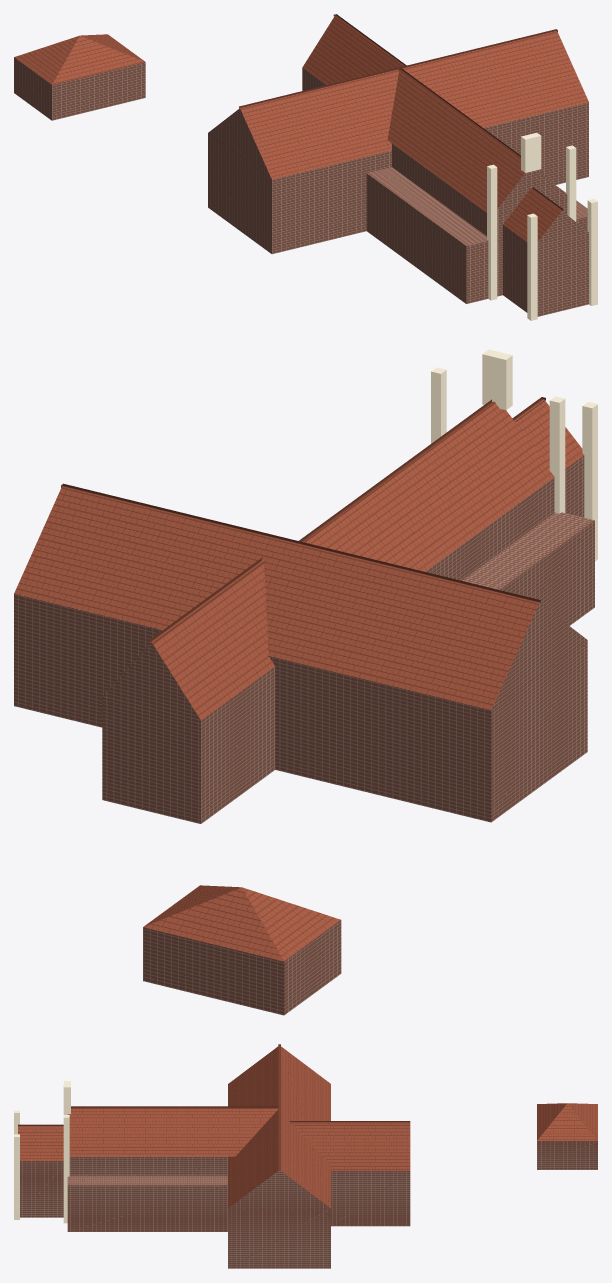
File: christ_church_far.glb
The picture shows the model from 3 angles, top to bottom: view 1: azimuth 30°, elevation 25°; view 2: azimuth 150°, elevation 25°; view 3: azimuth 270°, elevation 25°; orthographic projection. The views are drawn at different scales.
Parts seen in each view (by area): view 1: m_cc_brick_wall, m_cc_roof_tile, m_cc_dressing, m_cc_ridge; view 2: m_cc_brick_wall, m_cc_roof_tile, m_cc_dressing, m_cc_ridge; view 3: m_cc_brick_wall, m_cc_roof_tile, m_cc_dressing, m_cc_ridge.
Part boxes in pixels (left/top/right/bottom): m_cc_brick_wall: left=14, top=57, right=588, bottom=316; m_cc_roof_tile: left=14, top=15, right=588, bottom=241; m_cc_dressing: left=487, top=132, right=597, bottom=320; m_cc_ridge: left=239, top=14, right=563, bottom=211; m_cc_brick_wall: left=14, top=455, right=594, bottom=1015; m_cc_roof_tile: left=14, top=399, right=583, bottom=961; m_cc_dressing: left=431, top=349, right=597, bottom=561; m_cc_ridge: left=61, top=397, right=545, bottom=643; m_cc_brick_wall: left=20, top=1141, right=597, bottom=1268; m_cc_roof_tile: left=18, top=1045, right=597, bottom=1208; m_cc_dressing: left=14, top=1081, right=70, bottom=1223; m_cc_ridge: left=18, top=1044, right=410, bottom=1170.
Size of the model in its own units: 36.8 by 15.5 by 66.95.
4 materials, 2 textured.
